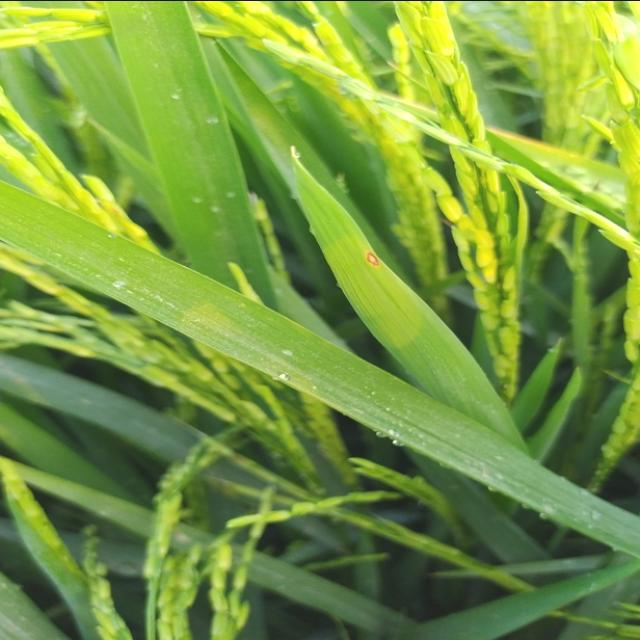insects: (356, 246, 386, 272)
